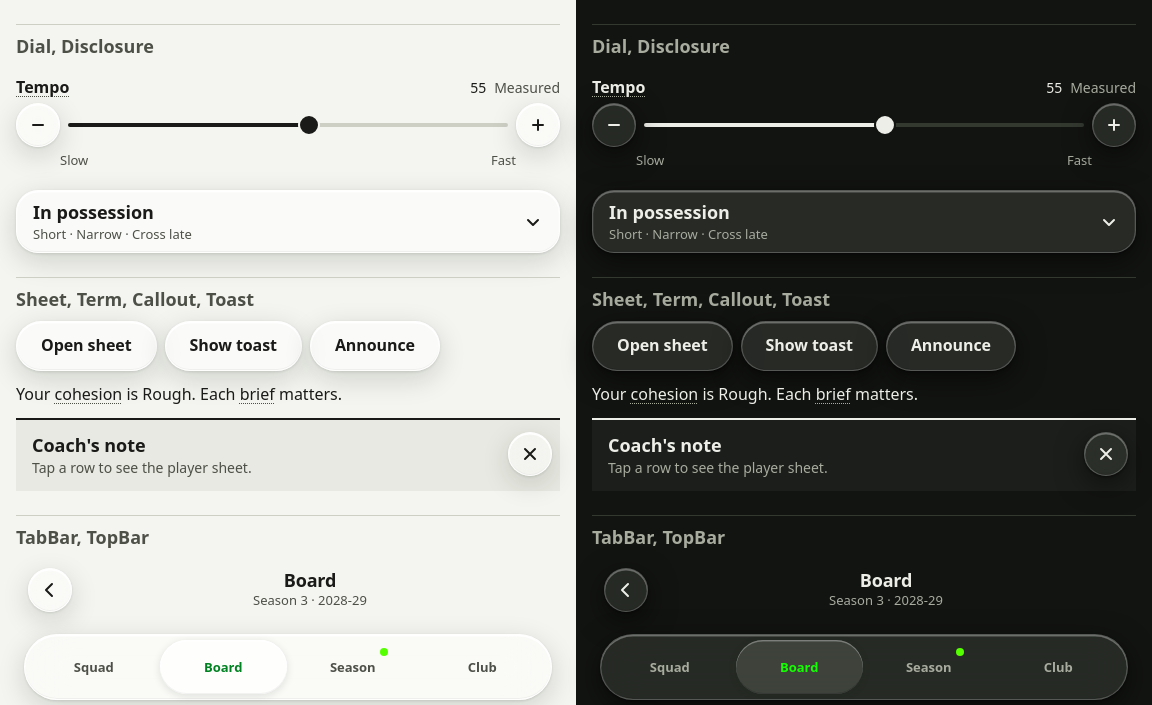
Scenario: Gallery › renders every primitive in both themes
(page scrolled)
Step 1. Click the 1st button "Open sheet" → click(86, 346), box [16, 321, 156, 371]
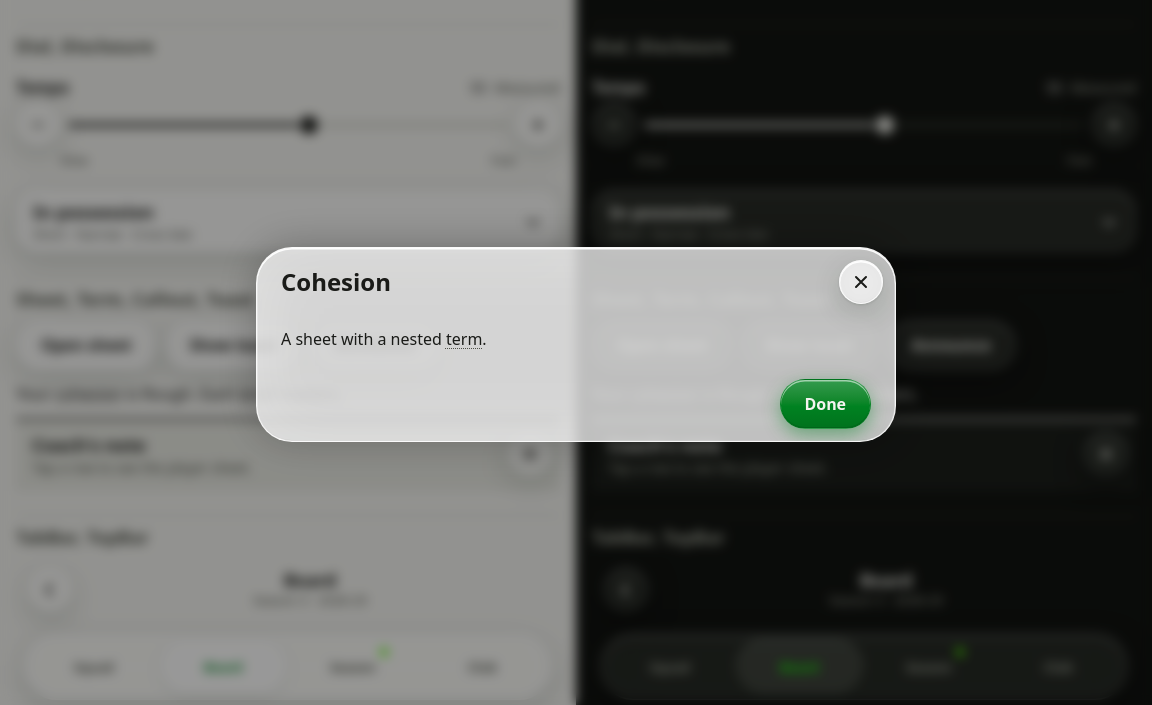
Result: the dialog "Cohesion" is shown at [256, 247, 896, 443]
